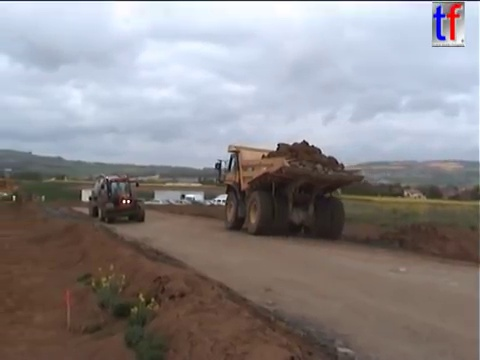truck: (212, 142, 366, 240), (87, 172, 146, 223)
